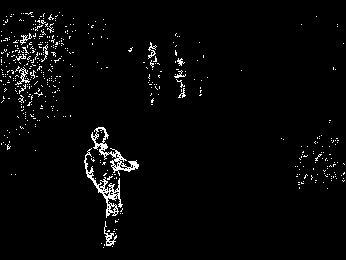person: (82, 124, 140, 251), (172, 55, 188, 99)
